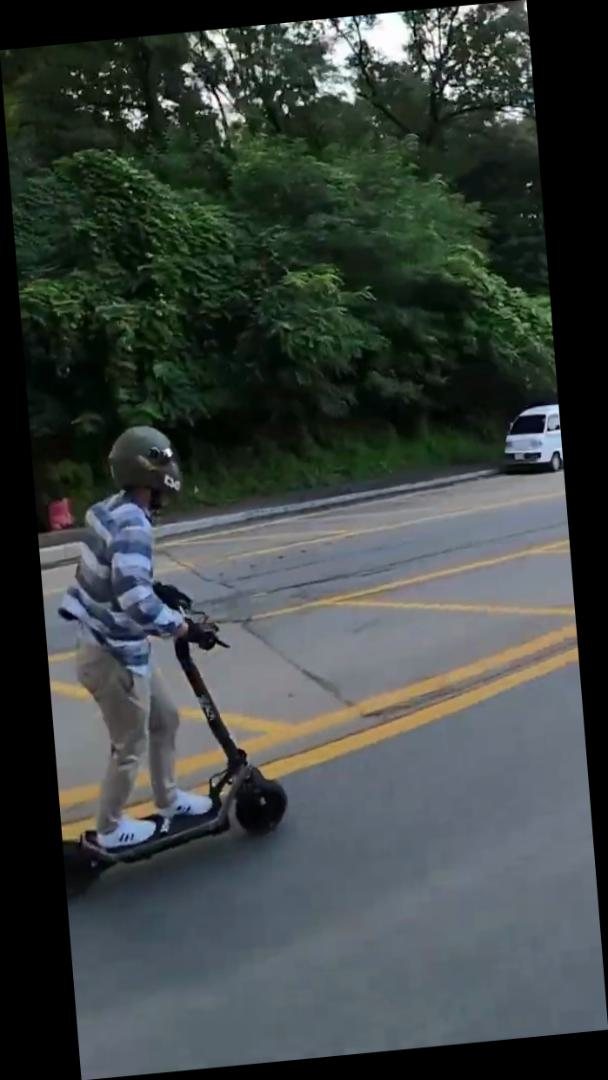helmet: (31, 415, 296, 906)
